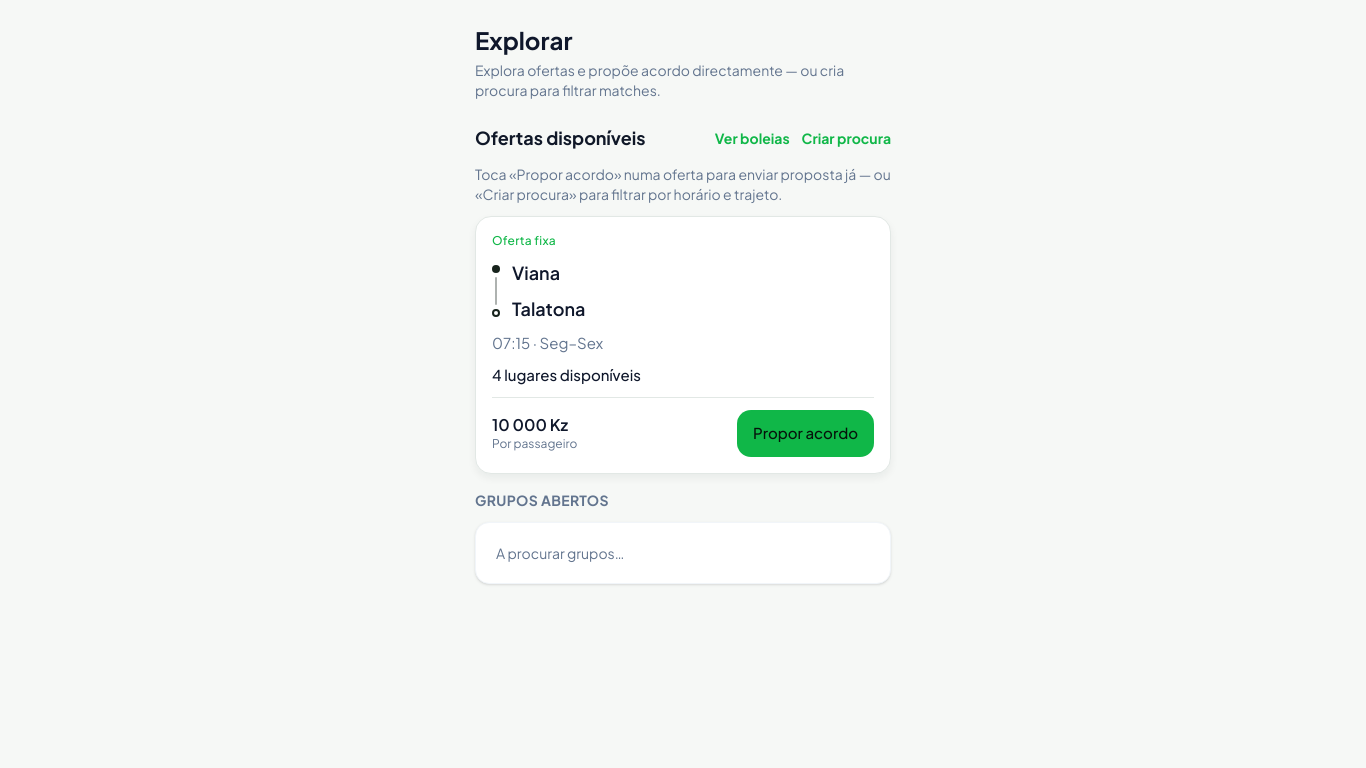
it: PassengerDashboard — marketplace › explorar autenticado com mais de uma pessoa não cria procura sem grupo
The image size is (1366, 768).
Click the button "Propor acordo" at (806, 433), box [737, 410, 874, 456]
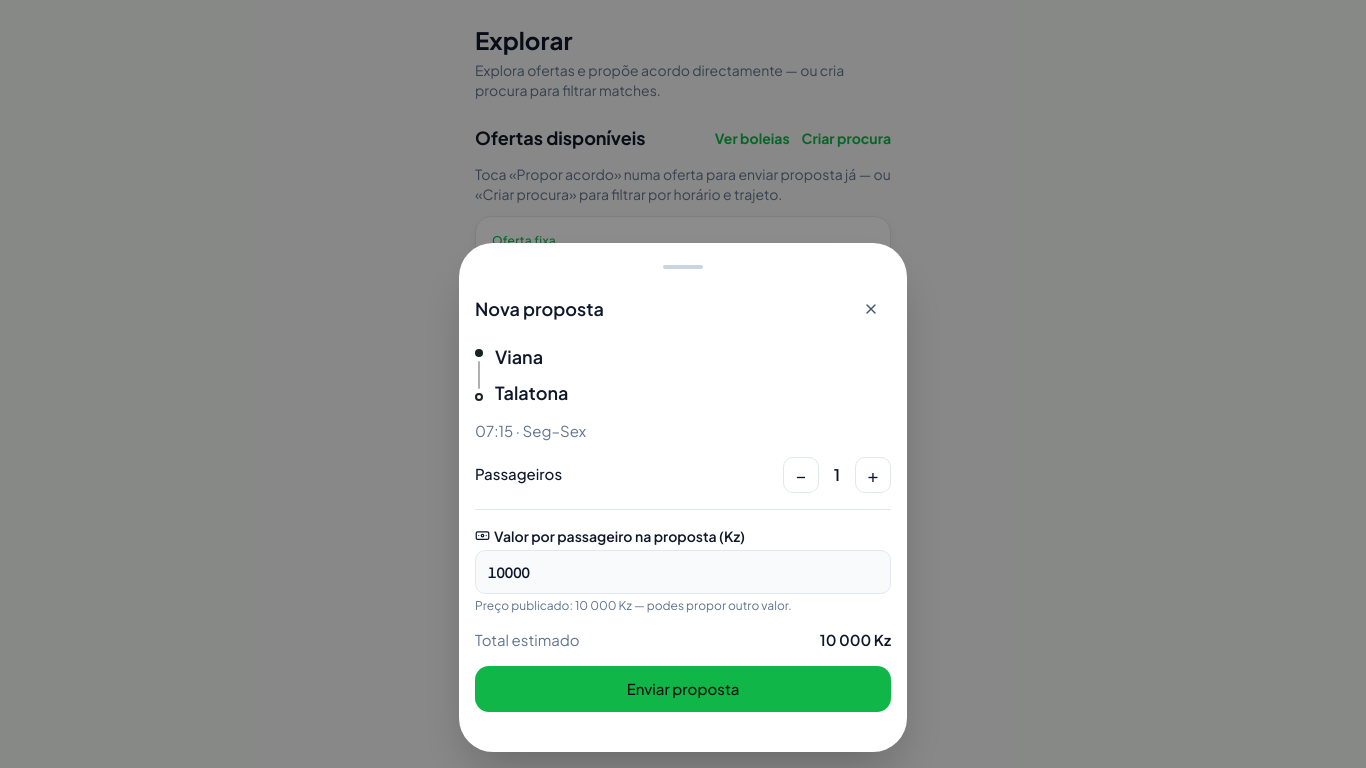
Click the button named "Mais passageiros" at (873, 474), box [855, 456, 891, 492]
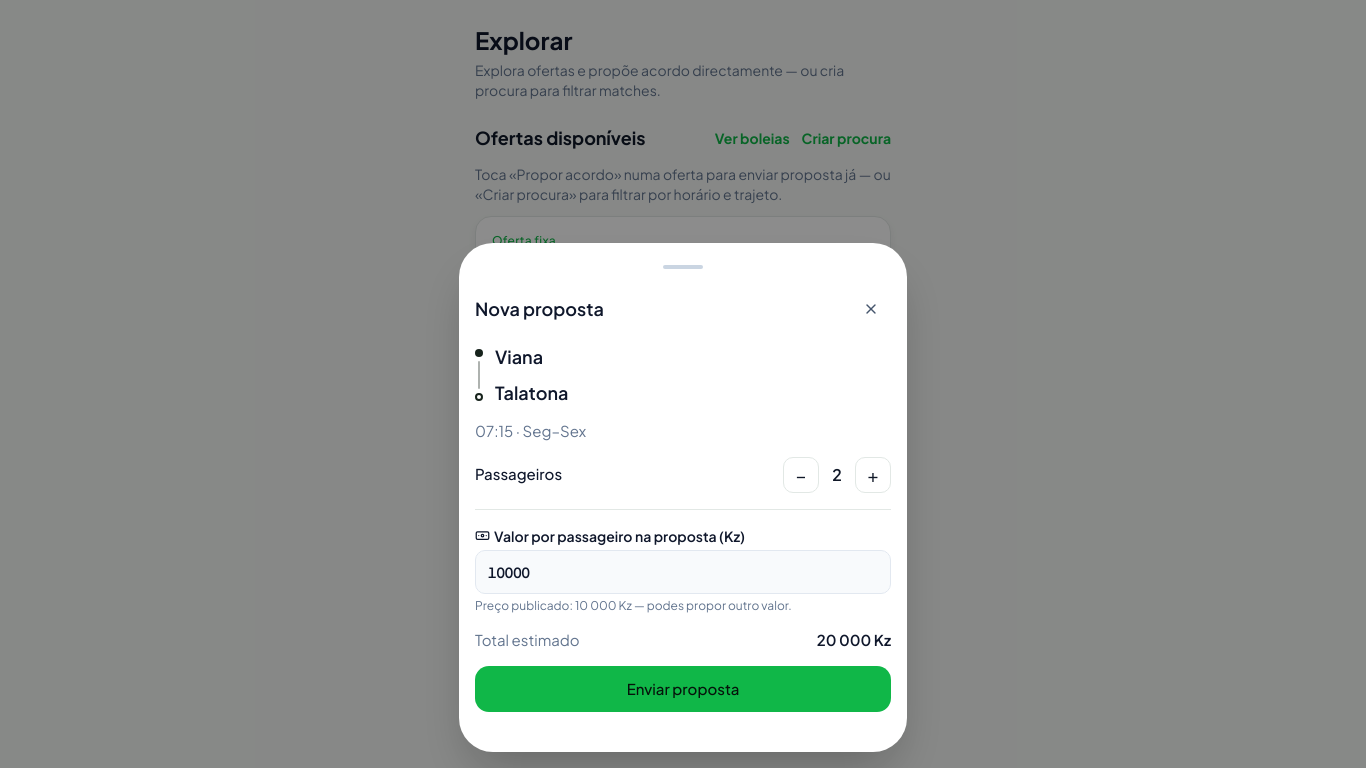
Click the button "Enviar proposta" at (683, 689), box [475, 666, 891, 712]
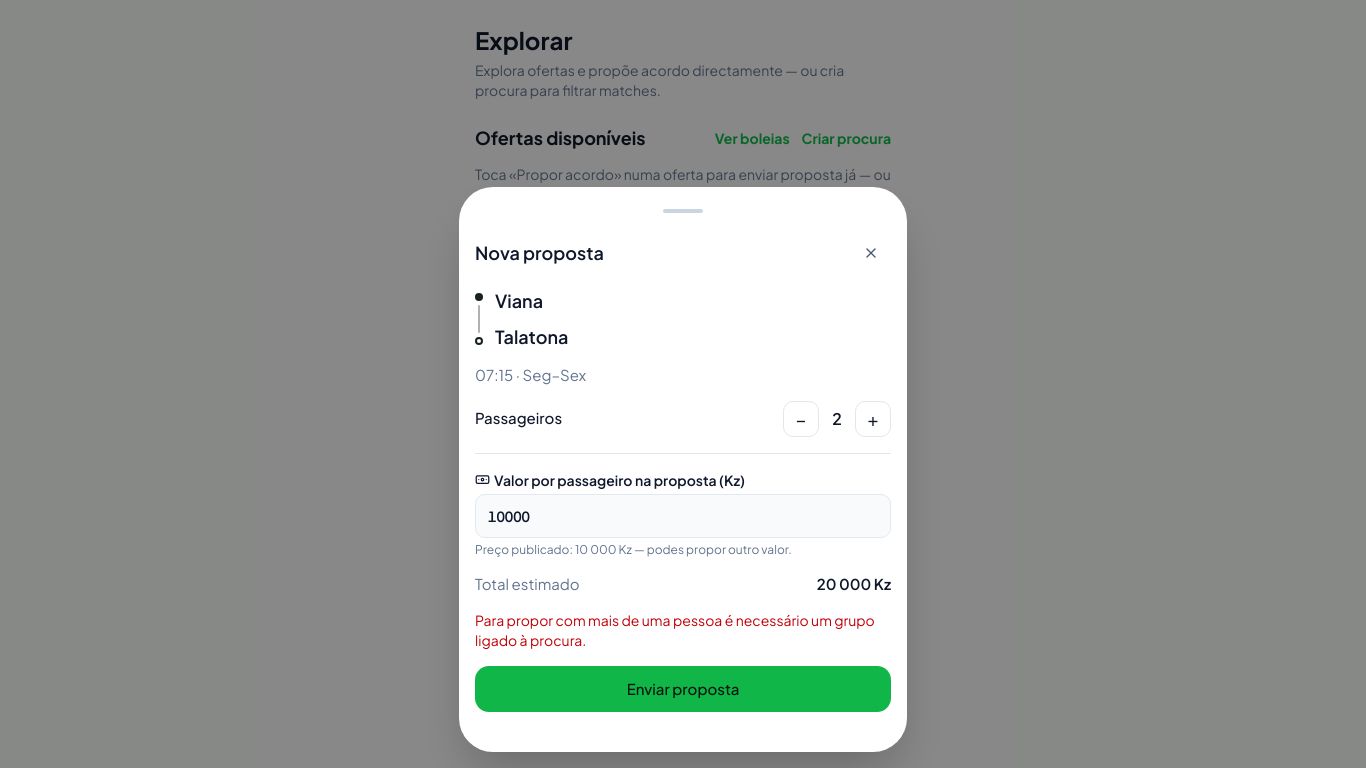
Result: the element with test id "opportunity-proposal-sheet" is shown
Result: the message reads "Para propor com mais de uma pessoa é necessário um grupo ligado à procura." at [475, 610, 875, 648]
